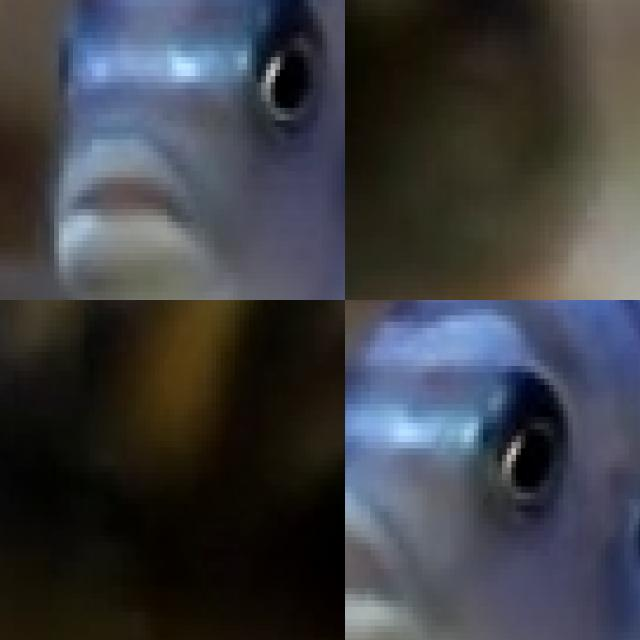fish: (0, 0, 345, 300), (345, 0, 640, 300)
